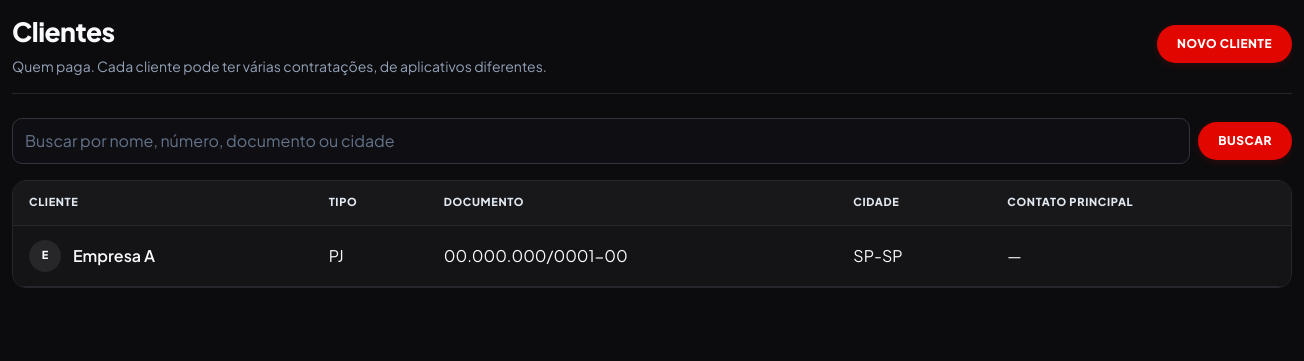
ClientesListComponent › a busca filtra enquanto digita
Type "nada disso" into the field with placeholder "Buscar por nome, número, documento ou cidade" at (601, 141), box [12, 118, 1190, 164]
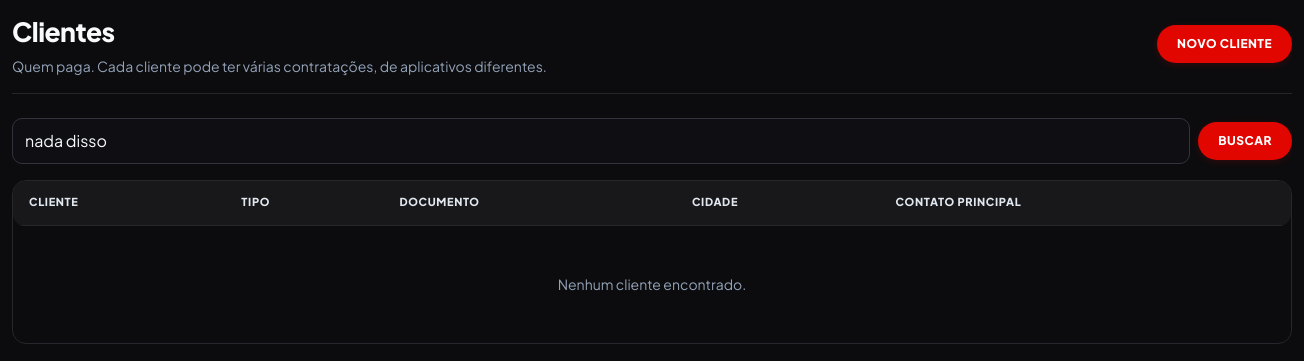
Check: no rows with class "clicavel" are shown
